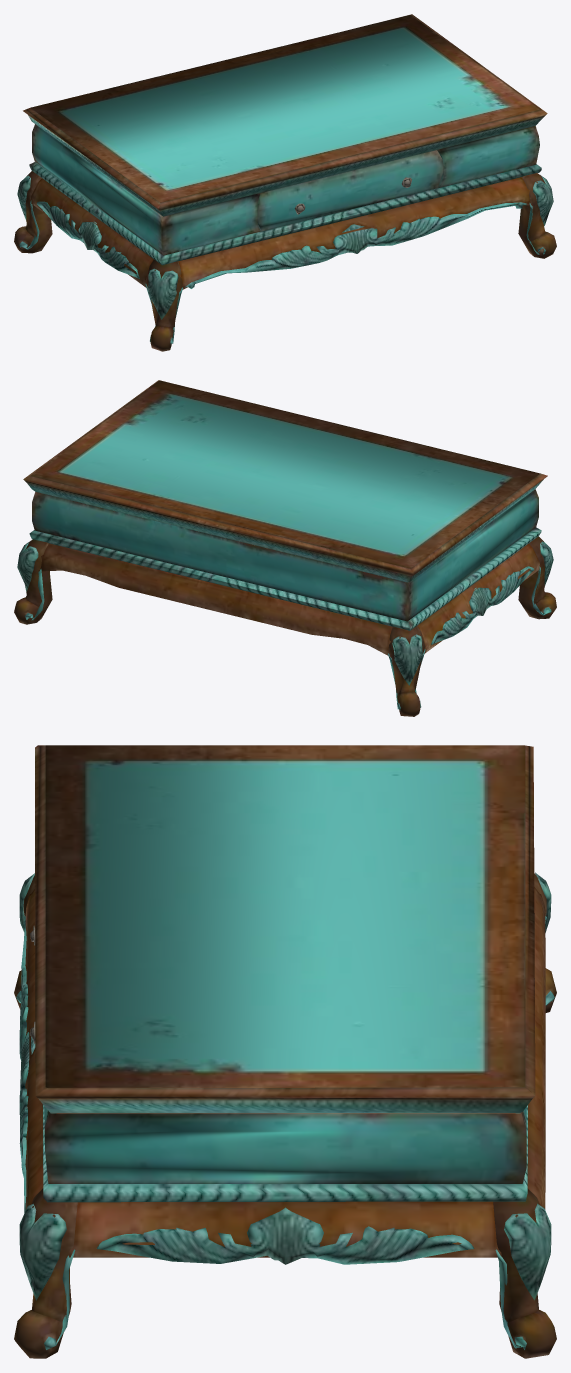
The model's file is CoffeeTable_01.cab1f4d1.glb.
3 views of the same model, one above another, from view 1: azimuth 30°, elevation 25°; view 2: azimuth 150°, elevation 25°; view 3: azimuth 270°, elevation 25° (orthographic). The views are drawn at different scales.
Visible parts, largest first — view 1: CoffeeTable_01; view 2: CoffeeTable_01; view 3: CoffeeTable_01.
Part boxes in pixels (<box>): CoffeeTable_01: <box>14,14,556,351</box>; CoffeeTable_01: <box>14,380,556,716</box>; CoffeeTable_01: <box>14,745,556,1358</box>.
Bounding box in the file's own units: 1.54 × 0.5212 × 0.9728.
1 material, 1 textured.
